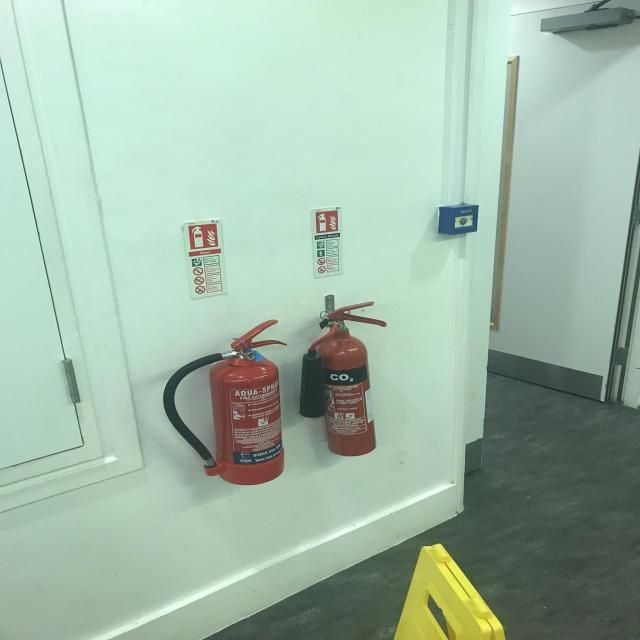fire_extinguisher: (158, 318, 297, 488), (294, 300, 390, 458)
